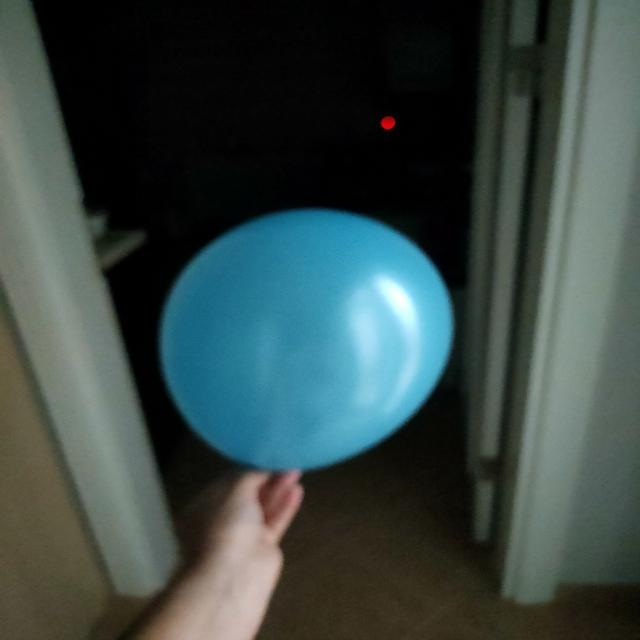blue: (166, 211, 452, 471)
